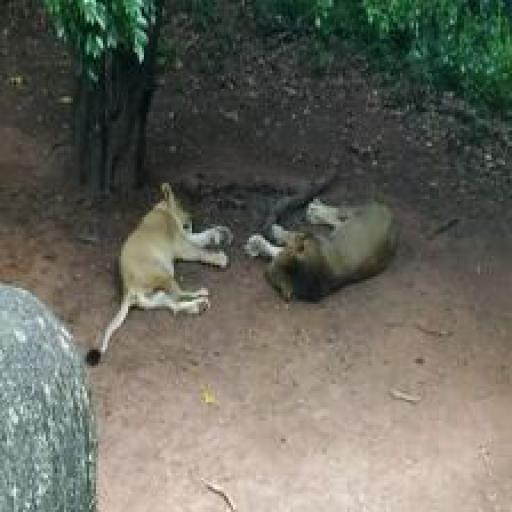Tiger: (82, 176, 236, 416)
